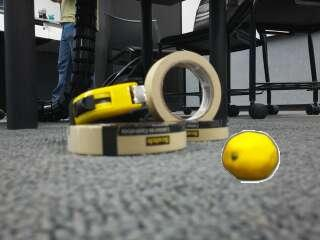lemon: (222, 133, 277, 180)
